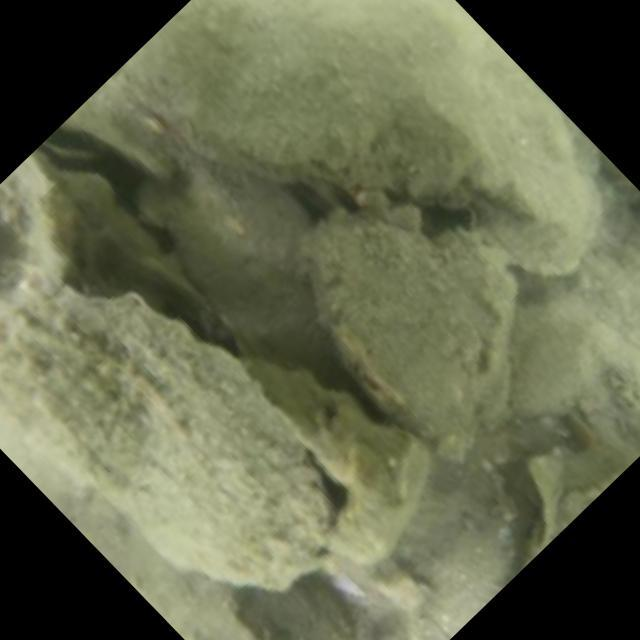Oyster- Indeterminate: (107, 0, 607, 294)
Oyster-Closed: (0, 278, 346, 587), (305, 213, 513, 448), (160, 160, 320, 364)
Oyster-Open: (43, 123, 119, 169)
